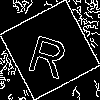R: (25, 25, 73, 80)
